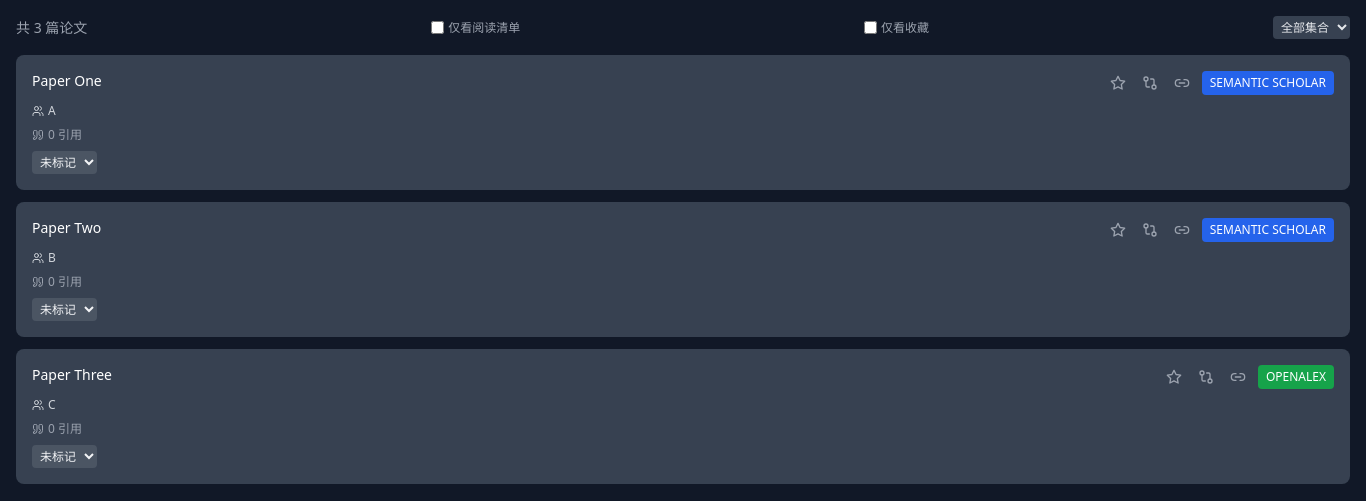
PaperList › toggles favorites and filters to them
This screenshot has width=1366, height=501.
Click the button named "收藏" in the row of "Paper One". click: {"x": 1118, "y": 83}
box: [1106,71,1130,95]
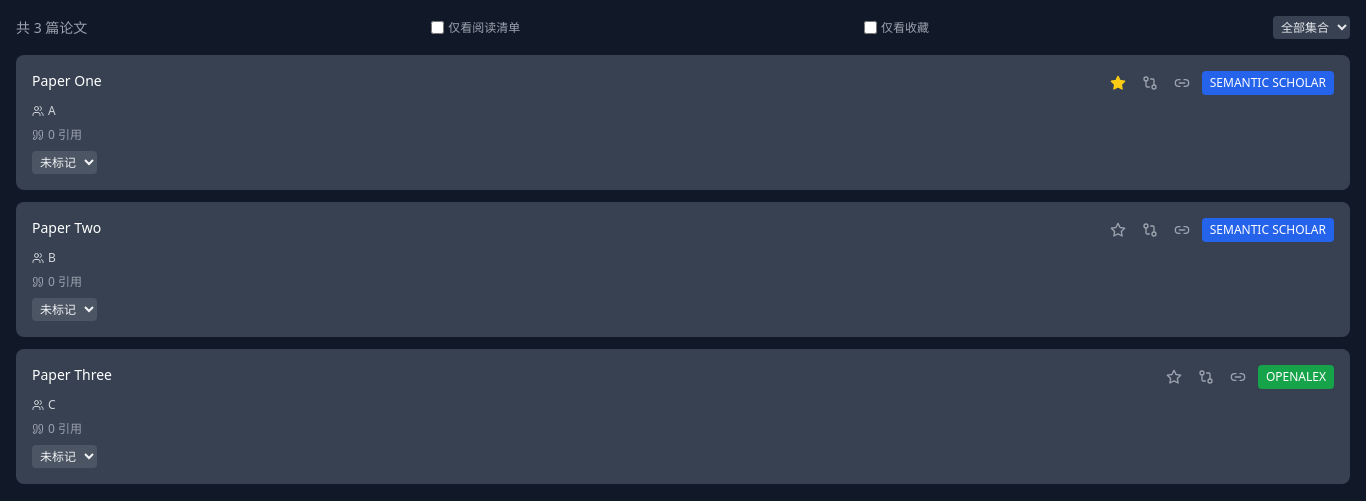
Click the checkbox labelled "仅看收藏". click: {"x": 871, "y": 28}
box: [864,21,877,34]
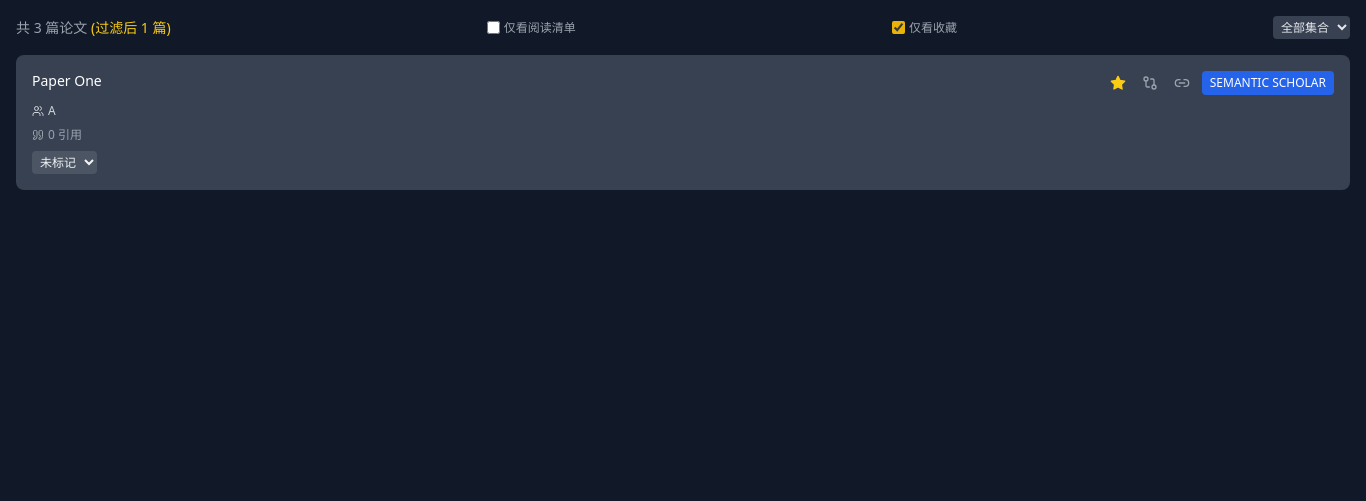
Expected: the heading "Paper One" is shown, [32,71,102,90]
Expected: the heading "Paper Two" is gone
